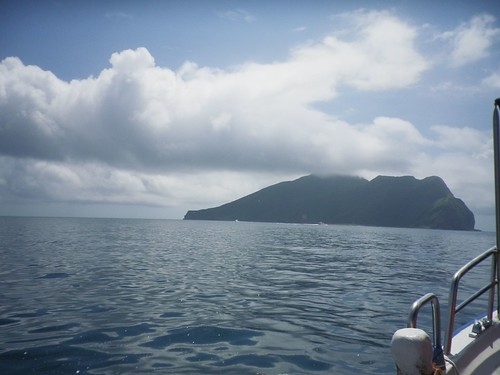turtleIsland: (181, 164, 478, 229)
